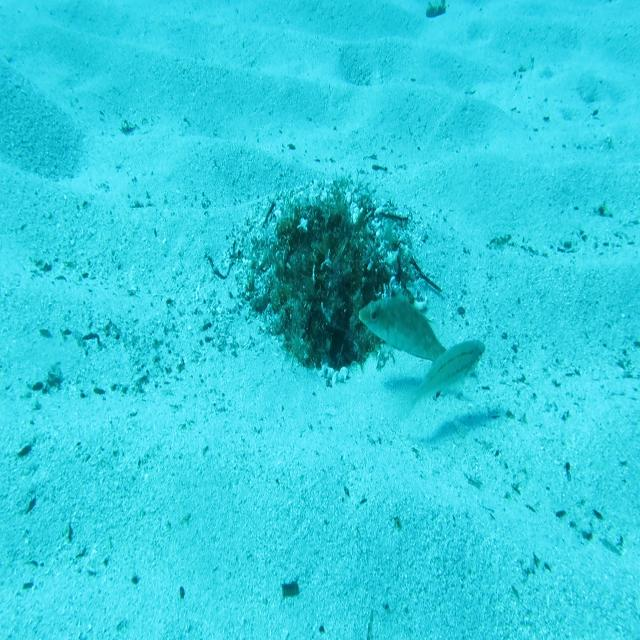MAF: (357, 277, 448, 364)
core_nest: (301, 215, 348, 258)
female: (392, 336, 487, 427)
nest: (225, 144, 447, 398)
vegetation: (423, 0, 450, 24), (281, 576, 300, 599)
